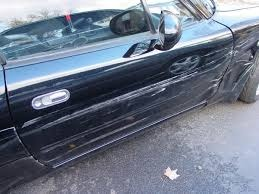Dent: (232, 31, 255, 62)
Scratch: (25, 69, 210, 141)
